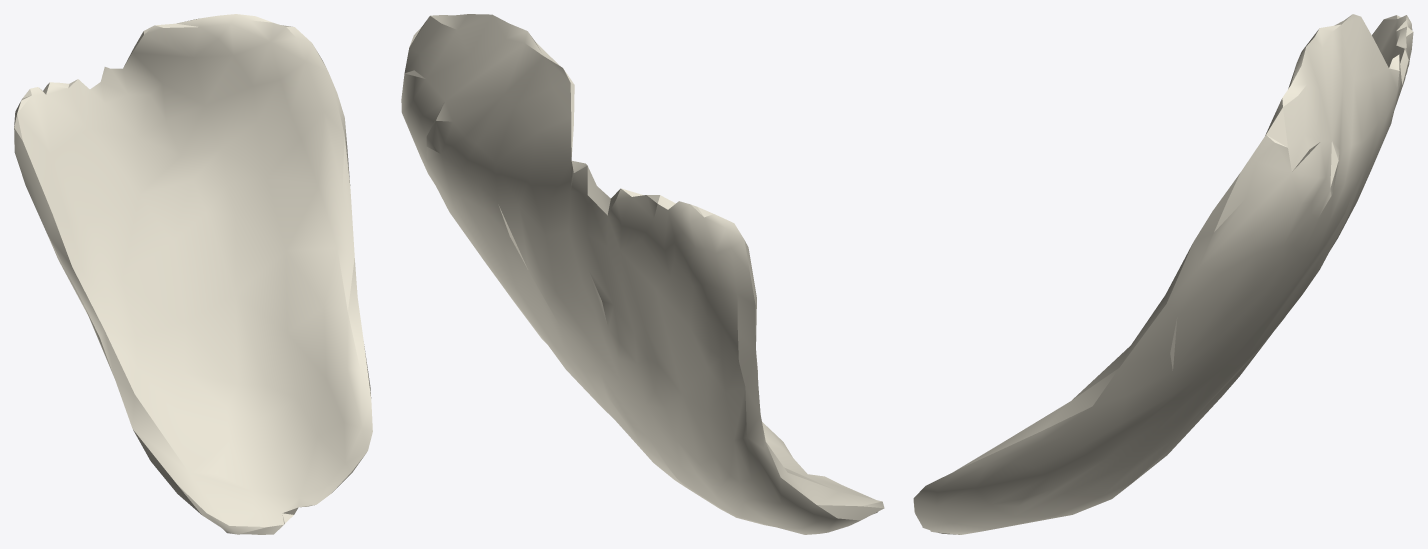
The model's file is fma321714-r_mm1457m.glb.
3 renders of one model, left to right at view 1: azimuth 30°, elevation 25°; view 2: azimuth 150°, elevation 25°; view 3: azimuth 270°, elevation 25°, orthographic. The views are drawn at different scales.
Parts seen in each view (by area): view 1: FMA321714-R_MM1457M; view 2: FMA321714-R_MM1457M; view 3: FMA321714-R_MM1457M.
Part boxes in pixels (x1=…): FMA321714-R_MM1457M: x1=14, y1=14, x2=372, y2=534; FMA321714-R_MM1457M: x1=401, y1=14, x2=884, y2=534; FMA321714-R_MM1457M: x1=913, y1=14, x2=1413, y2=534.
Bounding box in the file's own units: 0.00557 × 0.00776 × 0.00638.
